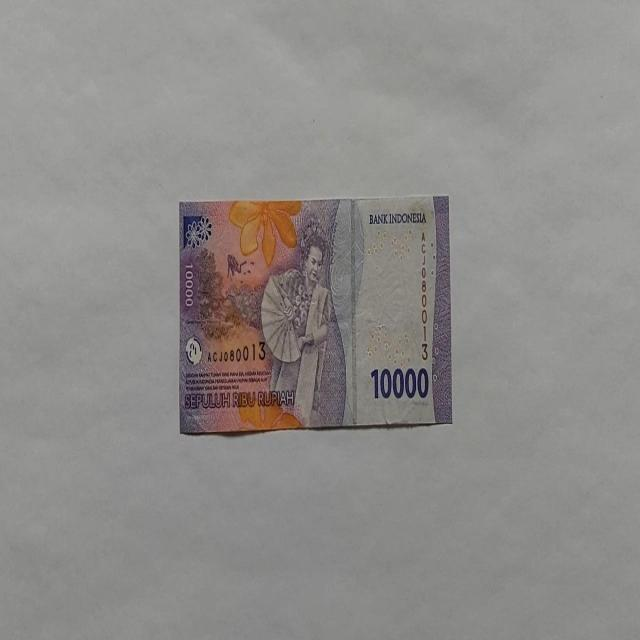Kertas: (178, 194, 452, 436), (370, 364, 430, 401)
